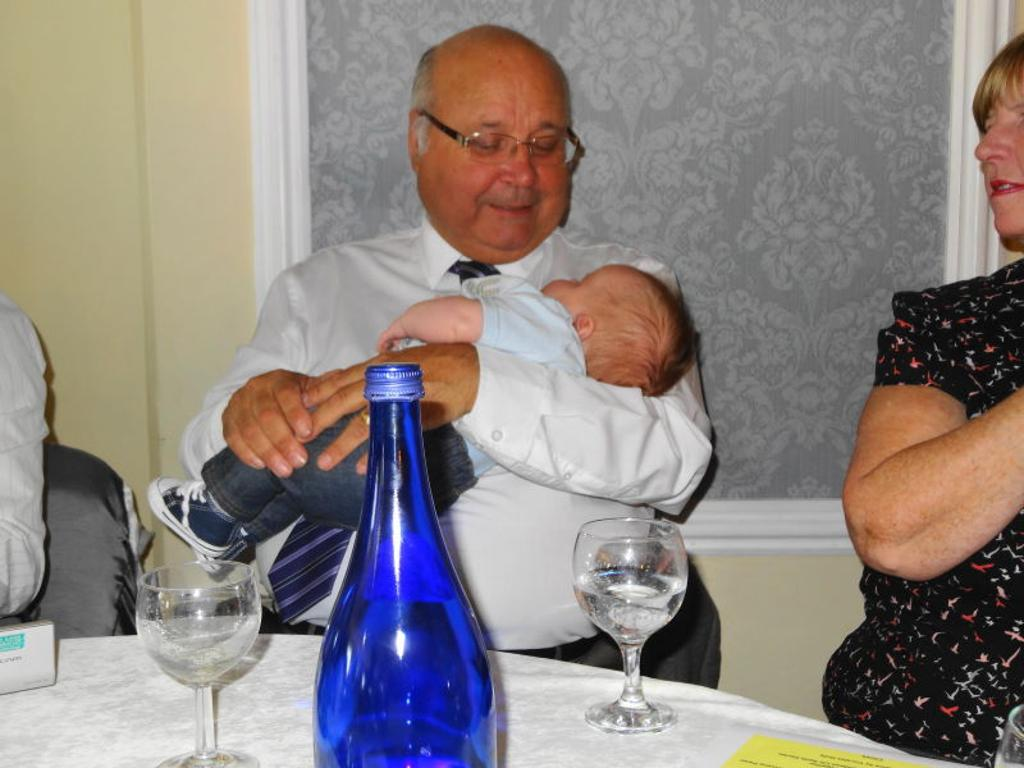face: (418, 30, 566, 254), (530, 258, 684, 344)
